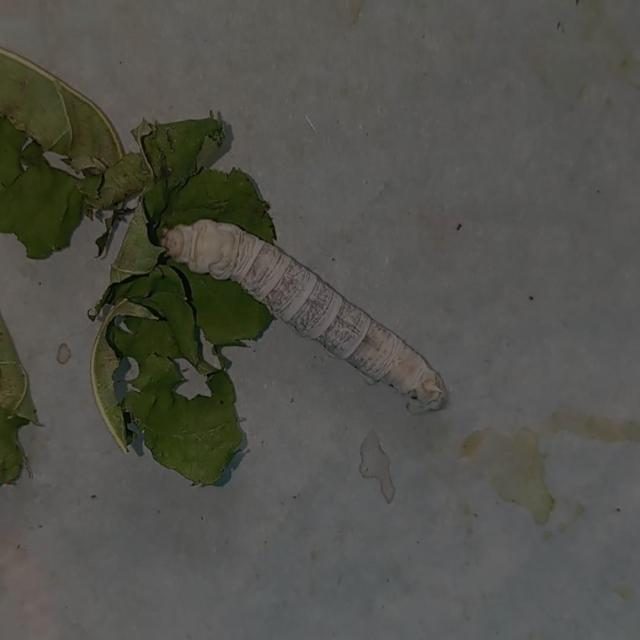Grasserie: (145, 182, 472, 437)
